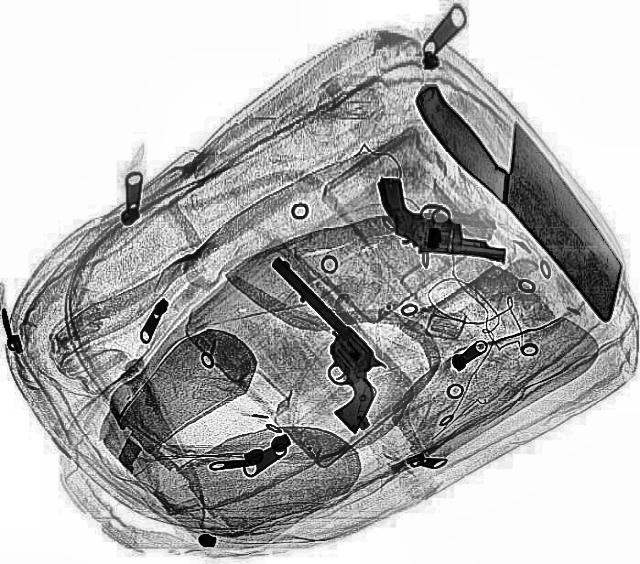Gun: (217, 256, 417, 434), (368, 177, 514, 259)
Knife: (407, 72, 639, 310)
